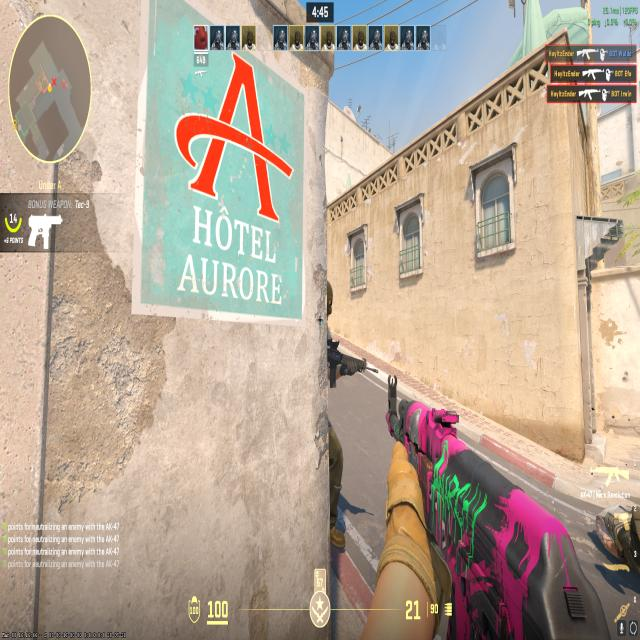t: (322, 268, 355, 552)
